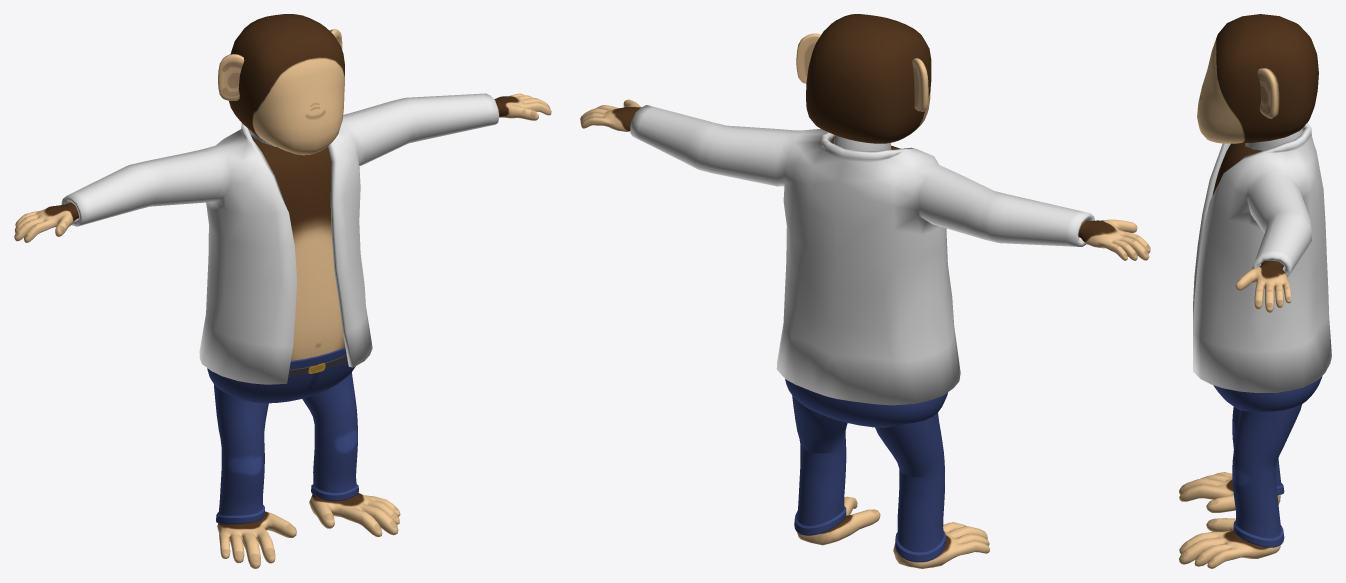
Rendered from Player.fbx.
3 views of the same model, side by side, from view 1: azimuth 30°, elevation 25°; view 2: azimuth 150°, elevation 25°; view 3: azimuth 270°, elevation 25° (orthographic). The views are drawn at different scales.
Visible parts, largest first — view 1: Coat, Head, Legs, Torso, UpperPants, Foot.R, Foot.L, Arm.R.001, Arm.L, Ear.R; view 2: Coat, Head, Legs, UpperPants, Arm.R.001, Foot.R, Foot.L, Arm.L, Ear.R; view 3: Coat, Head, Legs, Foot.L, Arm.L, UpperPants, Foot.R, Ear.L, Torso, Neck.
Part boxes in pixels (x1,y1,x2,y2): Coat: (61, 93, 499, 384); Head: (229, 14, 344, 155); Legs: (214, 372, 358, 524); Torso: (251, 135, 345, 360); UpperPants: (207, 347, 355, 403); Foot.R: (217, 511, 296, 568); Foot.L: (309, 493, 400, 536); Arm.R.001: (14, 202, 78, 242); Arm.L: (494, 93, 551, 120); Ear.R: (218, 54, 244, 100); Coat: (630, 105, 1094, 405); Head: (806, 14, 931, 143); Legs: (792, 395, 946, 562); UpperPants: (785, 379, 947, 427); Arm.R.001: (1078, 219, 1150, 260); Foot.R: (893, 522, 989, 568); Foot.L: (797, 496, 880, 545); Arm.L: (580, 99, 640, 131); Ear.R: (912, 58, 928, 111); Coat: (1193, 123, 1331, 392); Head: (1197, 14, 1318, 143); Legs: (1232, 404, 1301, 547); Foot.L: (1179, 518, 1280, 568); Arm.L: (1235, 260, 1291, 312); UpperPants: (1213, 376, 1322, 411); Foot.R: (1179, 472, 1280, 512); Ear.L: (1257, 68, 1279, 118); Torso: (1212, 143, 1262, 195); Neck: (1245, 129, 1302, 150).
Bounding box in the file's own units: 690 × 619 × 169.
